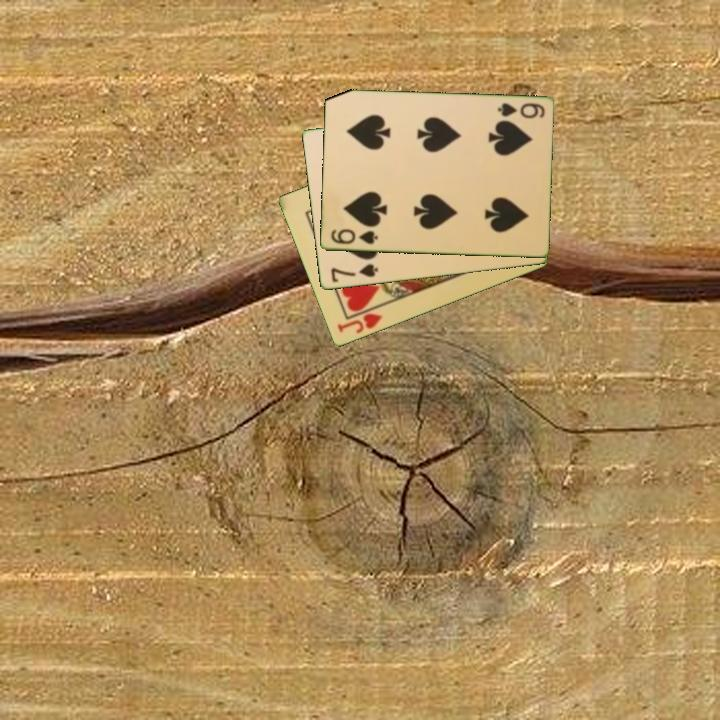6s: (327, 226, 380, 247), (494, 100, 547, 121)
7s: (327, 261, 380, 285)
Jh: (334, 310, 385, 337)
